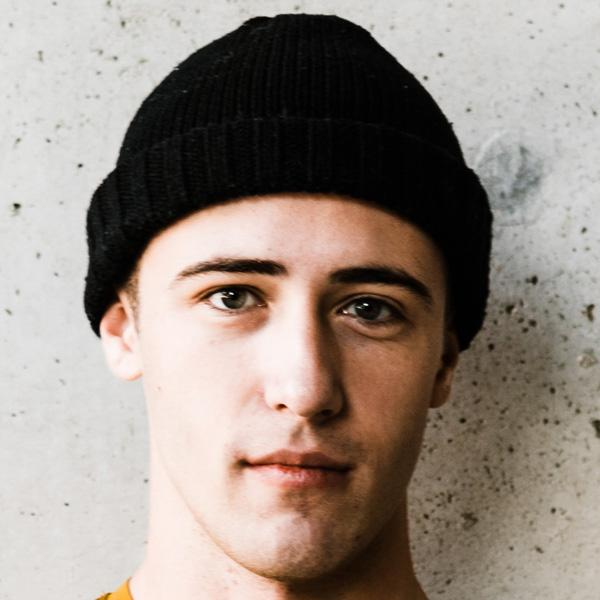Eyes: (182, 275, 274, 329), (324, 285, 413, 338)
